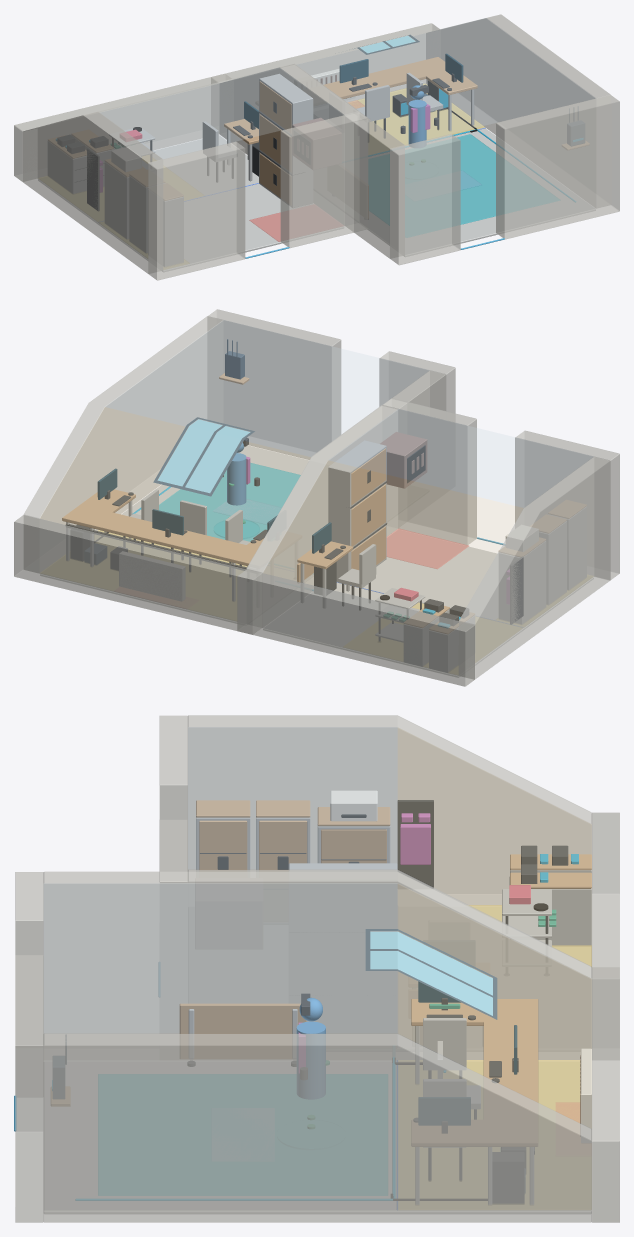
The model's file is kogni_lab_equipped_307_308_variant_b.glb.
3 views of the same model, one above another, from view 1: azimuth 30°, elevation 25°; view 2: azimuth 150°, elevation 25°; view 3: azimuth 270°, elevation 25° (orthographic). The views are drawn at different scales.
Visible parts, largest first — view 1: Room_308_flat_ceiling_h216, Room_308_east_sloped_wall, Room_307_west_sloped_wall, Room_308_south_wall_right_of_door, Room_307_south_wall_left_of_door, Room_307_flat_ceiling_h218, Room_308_west_sloped_wall, Room_307_south_wall_right_of_door, Room_307_floor, Room_308_floor, zone_308_primary_vr, Room_307_north_eave_wall_hmin (+26 smaller); view 2: Room_307_sloped_ceiling_hmin100, Room_308_flat_ceiling_h216, Room_308_sloped_ceiling_hmin100, Room_308_east_sloped_wall, Room_307_west_sloped_wall, Room_308_north_eave_wall_hmin, Room_307_north_eave_wall_hmin, Room_308_south_wall_right_of_door, Room_307_flat_ceiling_h218, Room_307_floor, Room_308_west_sloped_wall, Room_307_south_wall_left_of_door (+33 smaller); view 3: Room_308_east_sloped_wall, Room_308_west_sloped_wall, Room_308_flat_ceiling_h216, Room_307_east_sloped_wall, Room_307_west_sloped_wall, Room_307_flat_ceiling_h218, zone_308_primary_vr, Room_307_sloped_ceiling_hmin100, Room_308_sloped_ceiling_hmin100, Room_308_floor, zone_308_low_service_band, Room_308_south_wall_right_of_door (+33 smaller).
Boxes of the visible parts, x1,y1,x2,y2 form: Room_308_flat_ceiling_h216: (296,18,594,144); Room_308_east_sloped_wall: (426,14,610,207); Room_307_west_sloped_wall: (22,111,162,273); Room_308_south_wall_right_of_door: (496,95,619,239); Room_307_south_wall_left_of_door: (148,141,245,280); Room_307_flat_ceiling_h218: (99,68,343,158); Room_308_west_sloped_wall: (220,65,404,258); Room_307_south_wall_right_of_door: (280,111,368,248); Room_307_floor: (38,135,343,271); Room_308_floor: (358,89,595,256); zone_308_primary_vr: (369,134,558,237); Room_307_north_eave_wall_hmin: (14,74,232,181); Room_307_sloped_ceiling_hmin100: (263,460,522,620); Room_308_flat_ceiling_h216: (106,320,428,456); Room_308_sloped_ceiling_hmin100: (40,407,310,568); Room_308_east_sloped_wall: (23,316,223,572); Room_307_west_sloped_wall: (459,457,610,679); Room_308_north_eave_wall_hmin: (14,515,261,634); Room_307_north_eave_wall_hmin: (237,569,474,686); Room_308_south_wall_right_of_door: (207,309,341,459); Room_307_flat_ceiling_h218: (329,409,592,507); Room_307_floor: (263,530,593,677); Room_308_west_sloped_wall: (246,370,446,585); Room_307_south_wall_left_of_door: (515,430,619,580); Room_308_east_sloped_wall: (43,1033,591,1222); Room_308_west_sloped_wall: (43,871,591,1059); Room_308_flat_ceiling_h216: (44,883,397,1032); Room_307_east_sloped_wall: (188,869,591,1059); Room_307_west_sloped_wall: (188,715,591,904); Room_307_flat_ceiling_h218: (188,727,397,868); zone_308_primary_vr: (98,1074,387,1195); Room_307_sloped_ceiling_hmin100: (398,728,591,965); Room_308_sloped_ceiling_hmin100: (398,884,591,1128); Room_308_floor: (44,1061,591,1213); zone_308_low_service_band: (399,1060,591,1209); Room_308_south_wall_right_of_door: (15,955,43,1222).
Size of the model in its own units: 8.56 by 2.24 by 6.67.
